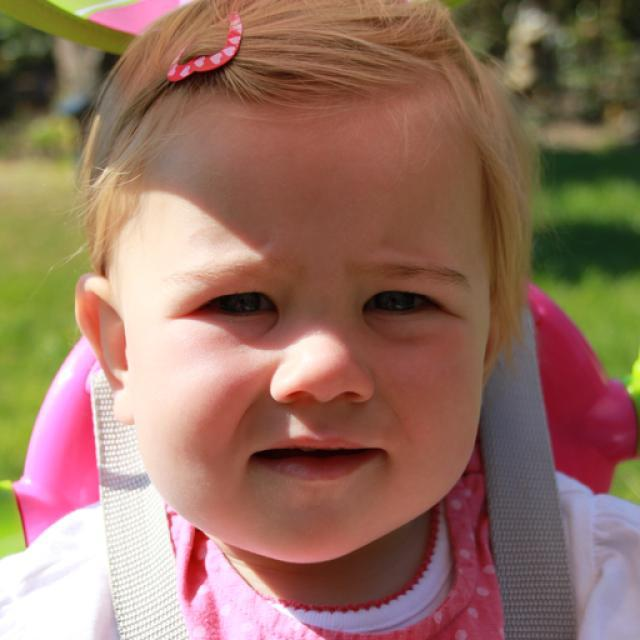disgust: (122, 100, 492, 566)
